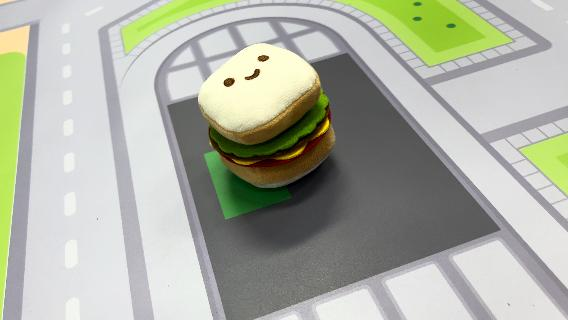sandwich: (196, 40, 338, 190)
